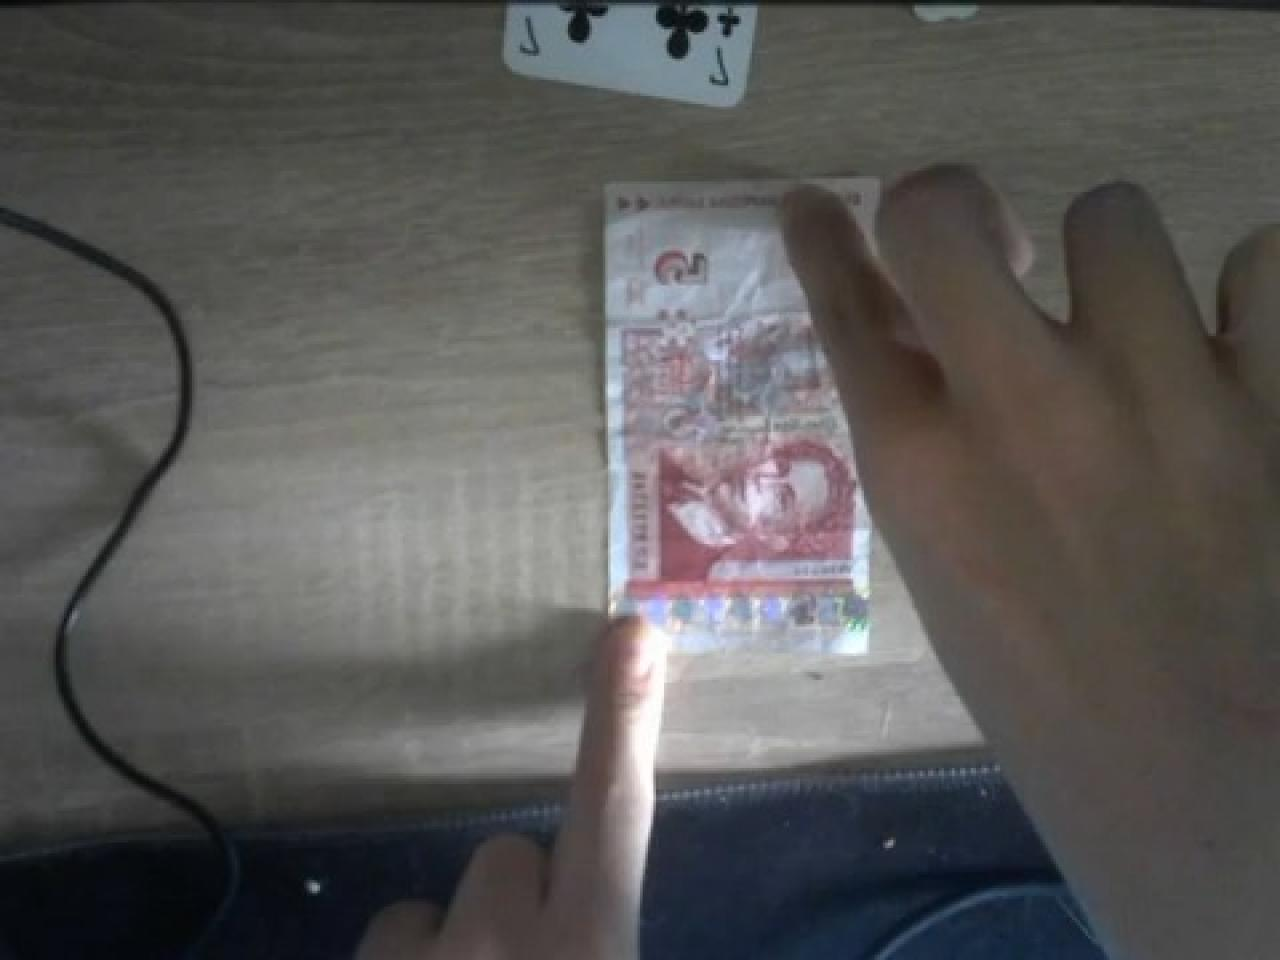5leva: (600, 178, 877, 658)
